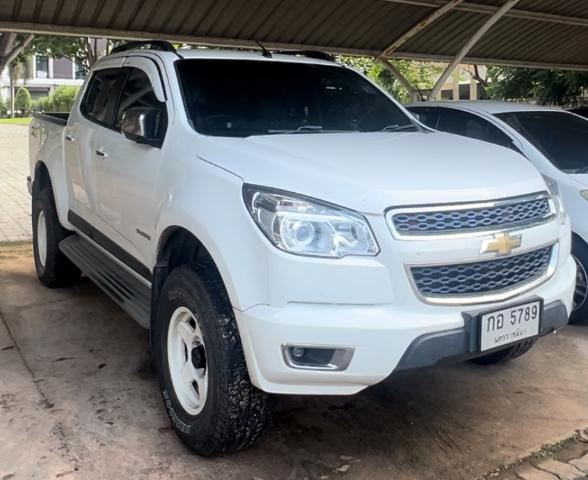pickup-truck: (18, 26, 580, 458)
